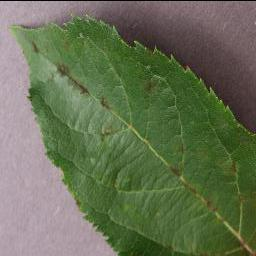apple healthy: (8, 12, 255, 255)
